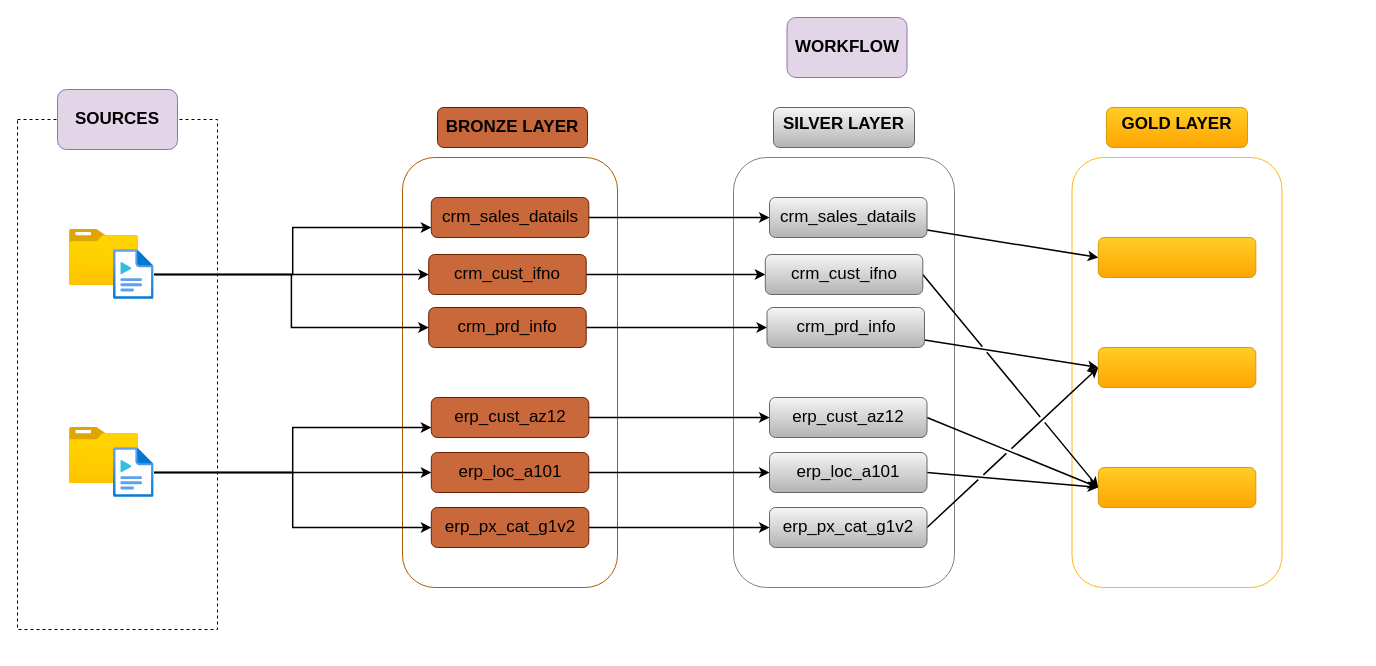
Some shapes in this 1376 by 666 pixel diagram are drawn without their labels. The box of each missing label's shape, as (x1, y1, x2, y2) in pixels:
CRM: (113, 249, 154, 299)
dim_customers: (1097, 466, 1256, 508)
dim_products: (1097, 346, 1256, 388)
ERP: (113, 447, 154, 497)
fact_sales: (1097, 236, 1256, 278)
